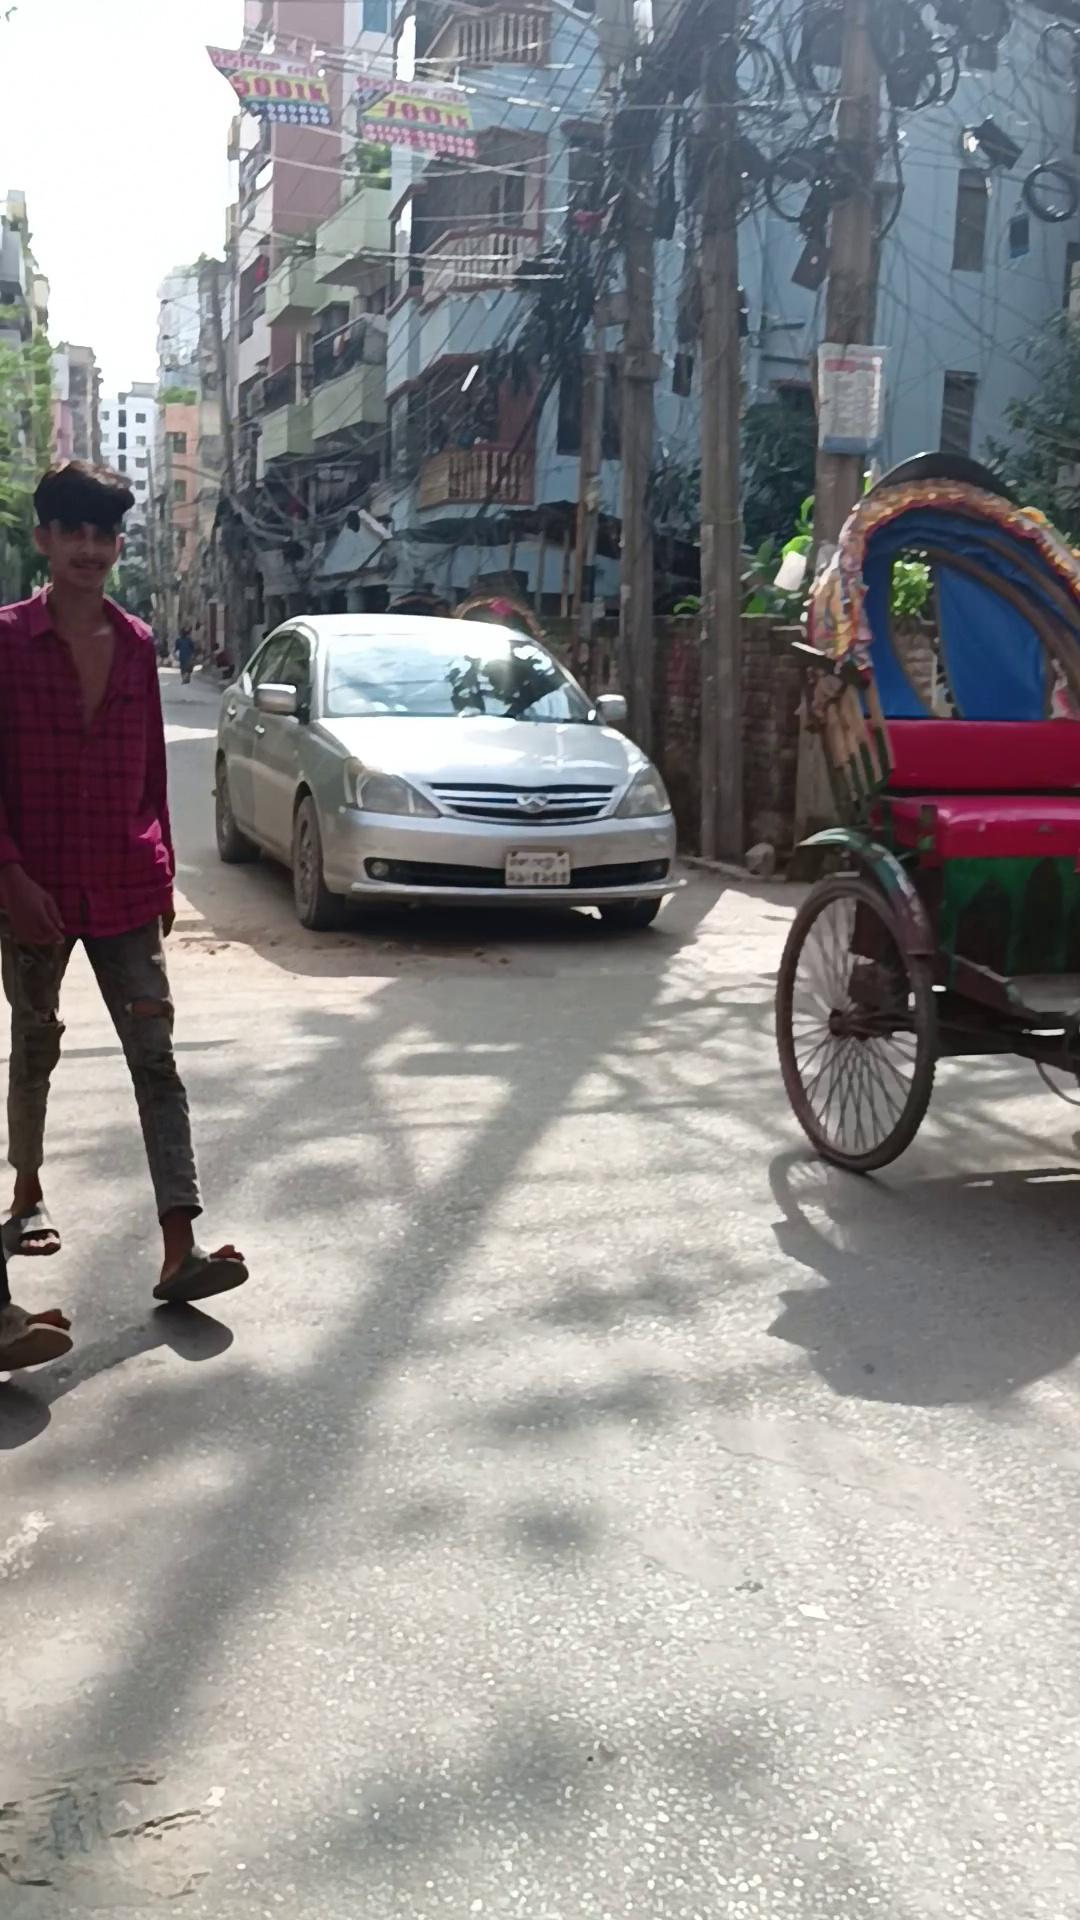Car: (211, 611, 687, 934)
Crosswalk: (675, 847, 800, 885)
Muddy road: (0, 458, 249, 1307), (174, 626, 196, 684)
Obstacle: (692, 3, 746, 862), (806, 1, 884, 595)
Pothole: (771, 448, 1077, 1174)
